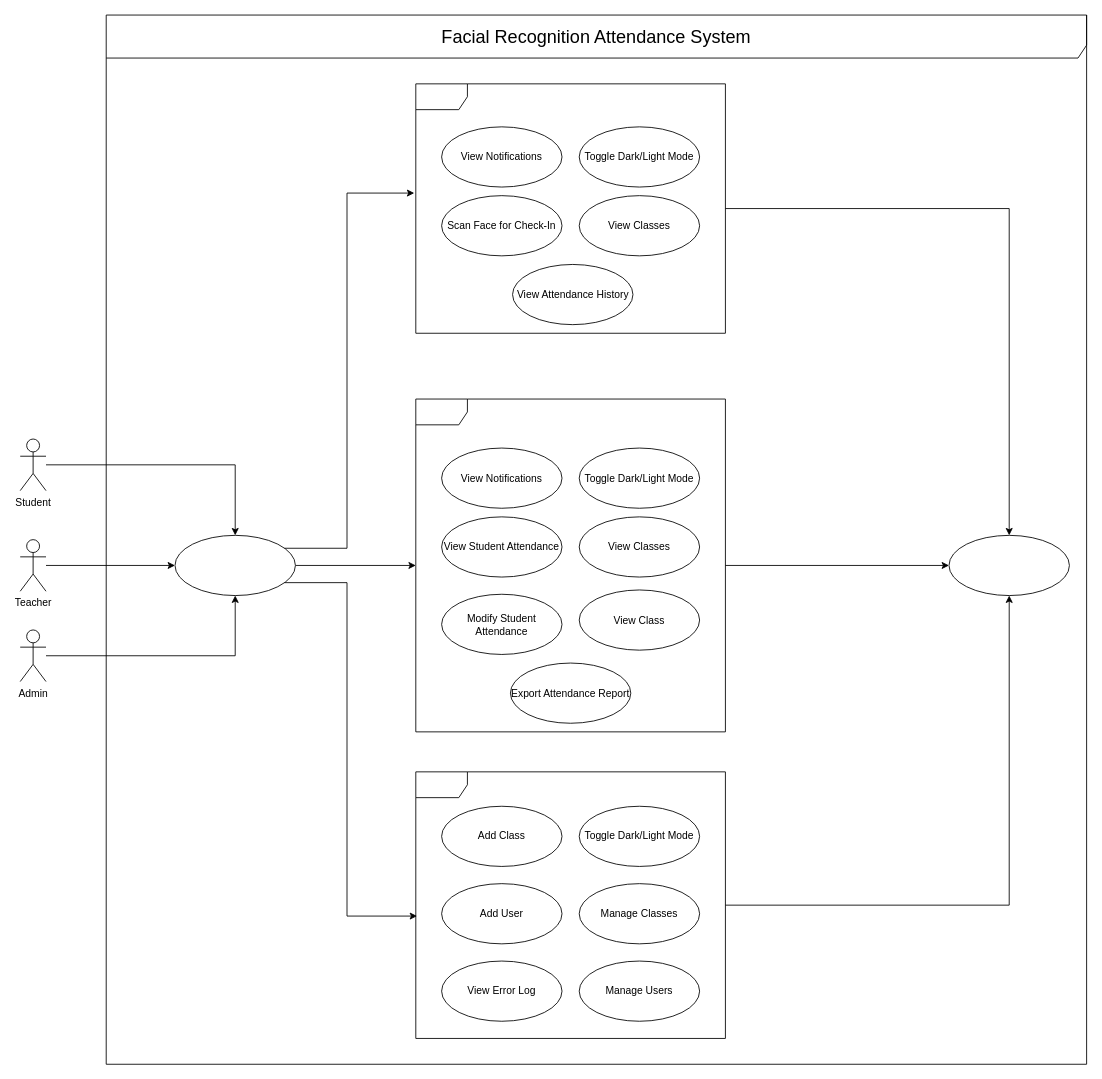
This 1102x1079 diagram has some shape labels left out. The shapes that lost their labels are listed below. From the top down, each one's box as (x1, y1, x2, y2) in pixels, then its label:
(415, 83, 725, 333): Student Functions
(174, 534, 295, 596): Login
(415, 398, 725, 732): Teacher Functions
(948, 534, 1069, 596): Logout
(415, 771, 725, 1038): Admin Functions
